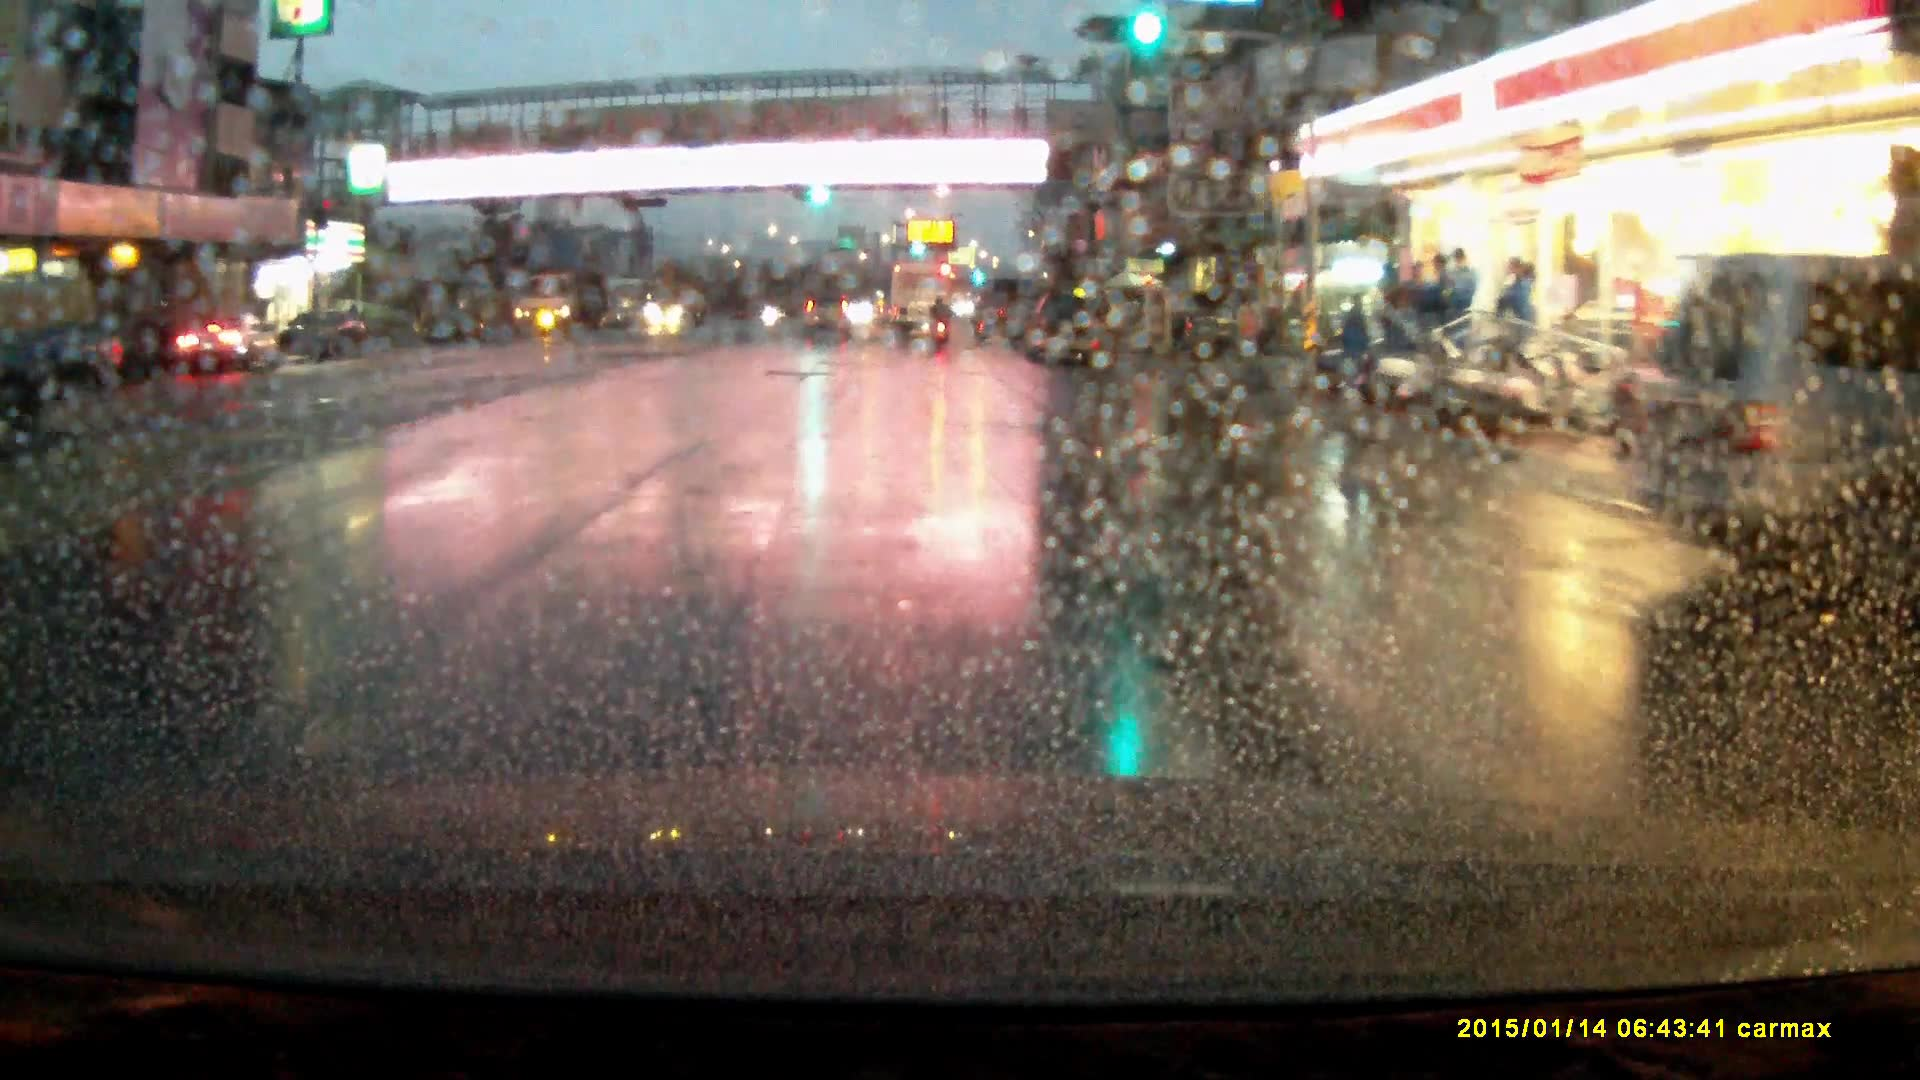rider: (929, 294, 956, 348)
vehicle: (512, 269, 608, 338), (173, 314, 280, 374), (1028, 291, 1102, 369), (274, 310, 377, 364), (1176, 297, 1260, 359), (892, 258, 951, 341), (803, 296, 857, 343), (653, 283, 709, 329)
